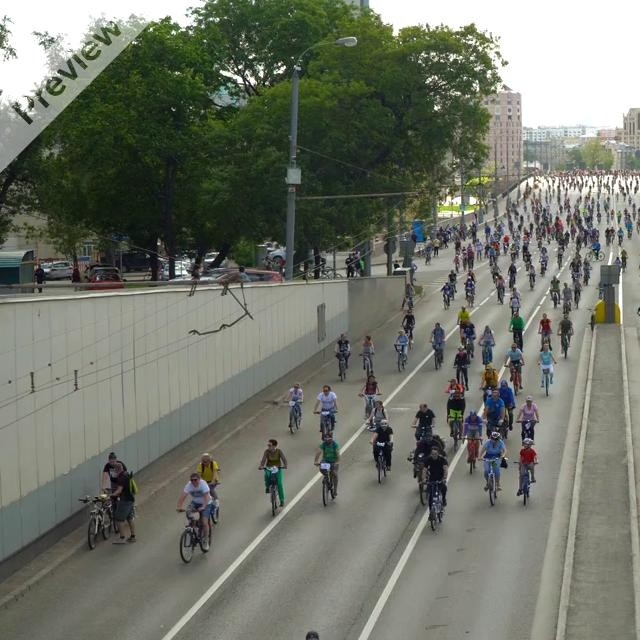bicycle: (78, 491, 117, 550), (175, 505, 213, 563), (419, 479, 447, 531), (258, 465, 286, 516), (477, 456, 505, 506), (313, 461, 339, 506), (513, 460, 538, 505), (406, 455, 427, 505), (369, 441, 392, 483), (312, 409, 338, 441), (462, 437, 483, 474), (358, 392, 380, 425), (284, 398, 303, 433), (538, 360, 556, 396), (505, 360, 523, 395), (515, 418, 538, 445), (448, 414, 463, 450), (429, 340, 445, 369), (557, 329, 572, 359), (393, 343, 408, 372), (334, 352, 349, 381), (453, 364, 469, 391), (480, 340, 495, 366), (359, 352, 374, 377), (402, 325, 414, 350), (463, 335, 476, 358), (539, 329, 552, 351)
